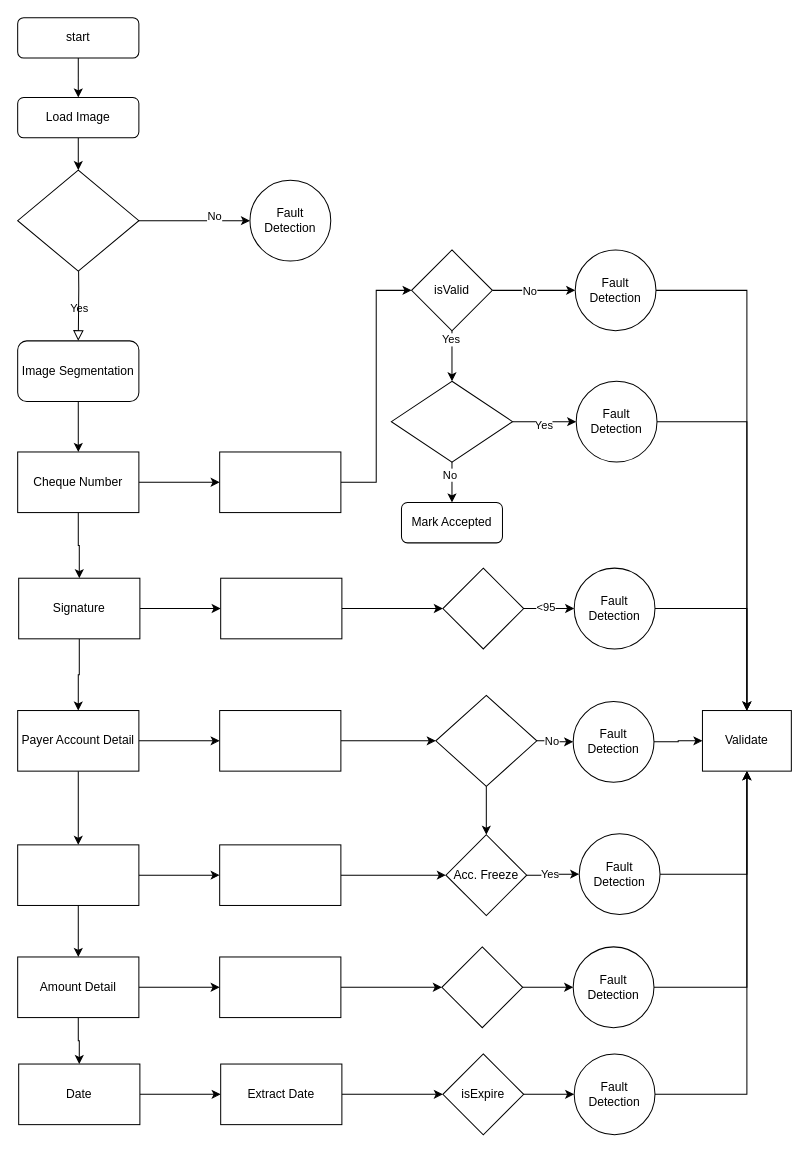
This 809x1152 diagram has some shape labels left out. Here are the shapes that lost their labels. From the top down, the centre of each, then its label:
At point 78,220: "Color AnalysisRun Color Analysis".
At point 451,421: "isDeactive/ isBlock/ isAccepted".
At point 280,482: "Extract Cheque Number".
At point 281,608: "Extract Signature".
At point 483,608: "Compare Signature".
At point 280,740: "Extract Payer Information using barcode".
At point 486,740: "has Enough balance".
At point 78,874: "Receiver Detail".
At point 280,874: "Extract Account Number of receiver".
At point 280,987: "Extract amount".
At point 482,987: "Word != amount".
